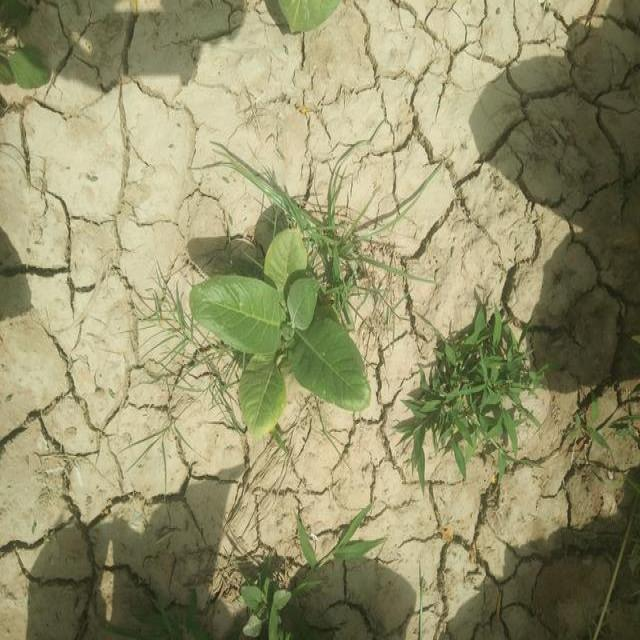crop: (190, 239, 364, 429)
